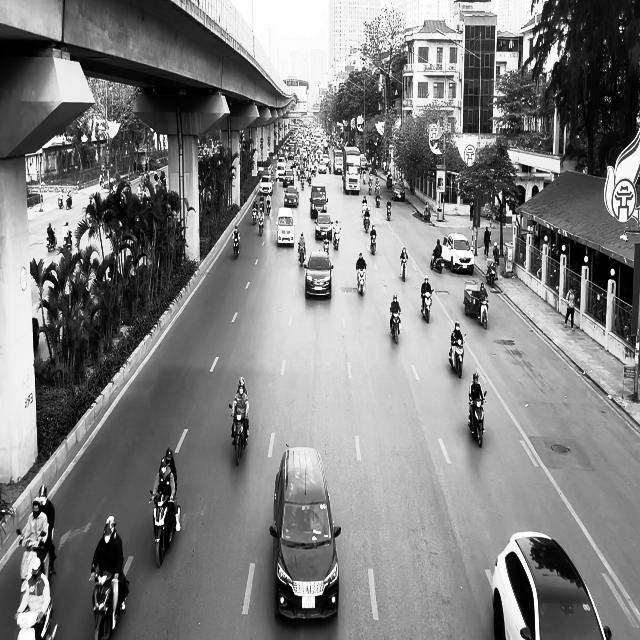bus: (343, 146, 362, 195)
car: (492, 531, 612, 639), (269, 444, 342, 620), (305, 250, 334, 299), (442, 232, 474, 274), (276, 208, 296, 246), (315, 212, 333, 240), (284, 185, 299, 207), (260, 174, 274, 195), (392, 181, 405, 201)
motorbike: (90, 568, 130, 640), (17, 528, 56, 592), (149, 490, 180, 567), (230, 404, 250, 465), (468, 390, 487, 447), (448, 333, 466, 378), (421, 288, 434, 323), (390, 308, 401, 344), (479, 294, 489, 330), (486, 260, 498, 286), (357, 265, 366, 296), (431, 253, 443, 273), (47, 229, 57, 251), (400, 256, 408, 282), (232, 233, 240, 259), (370, 232, 377, 255), (258, 213, 265, 236), (298, 244, 305, 266), (334, 229, 341, 250), (364, 212, 371, 232), (386, 202, 392, 221), (375, 190, 381, 207)
